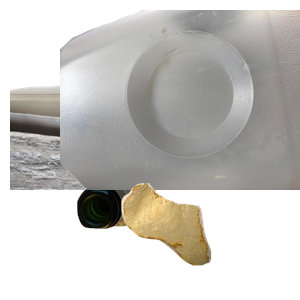glass: (74, 158, 223, 300)
paper: (10, 77, 250, 257)
plastic: (60, 10, 300, 190)
trash: (119, 181, 300, 300)
